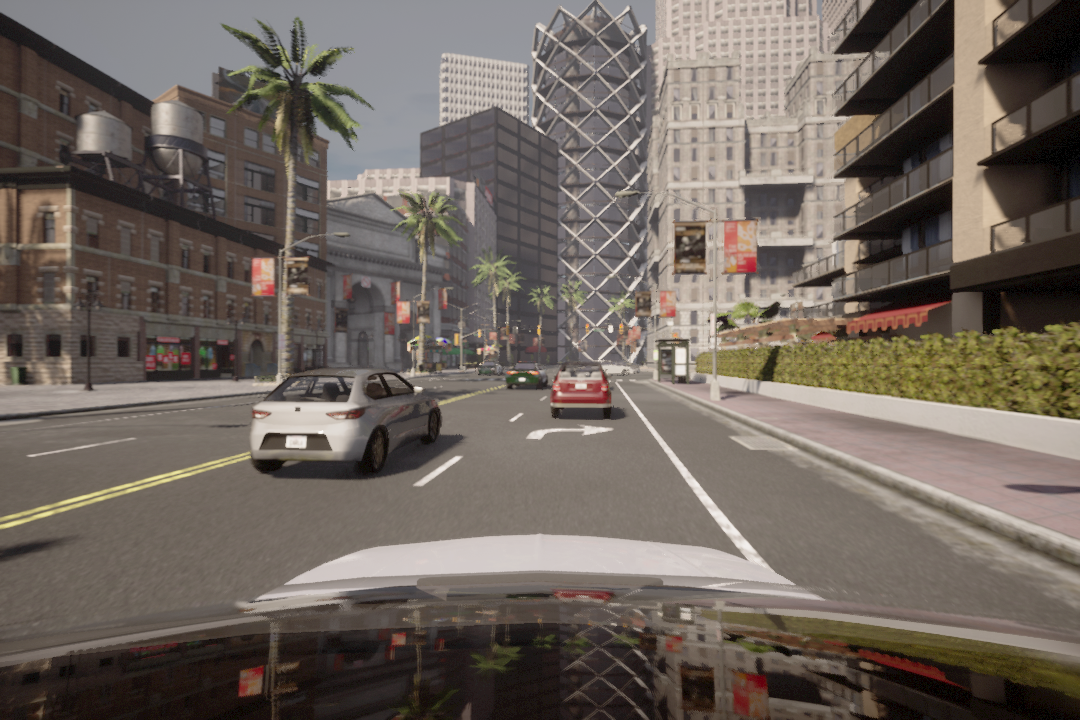RoadSign_right: (527, 421, 617, 448)
